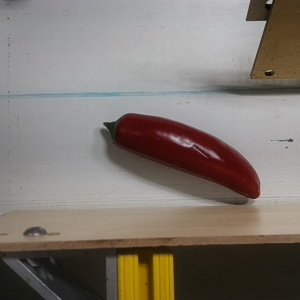Cut Point: (104, 112, 136, 149)
